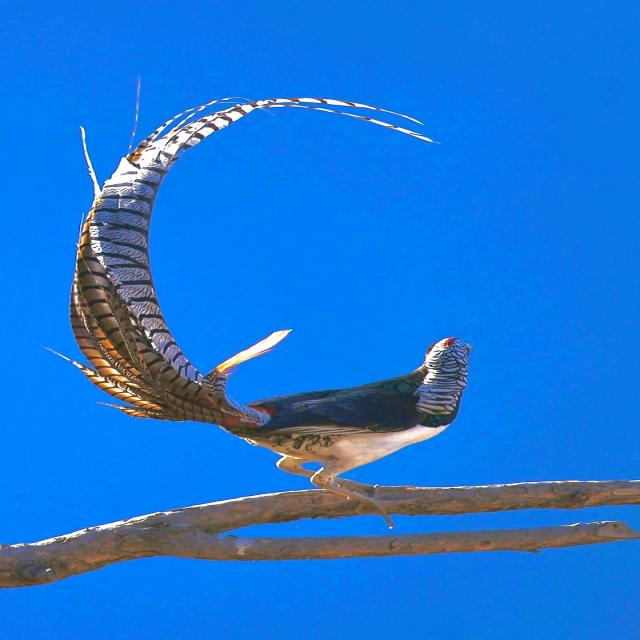Chrysolophus amherstiae: (71, 99, 378, 431)
